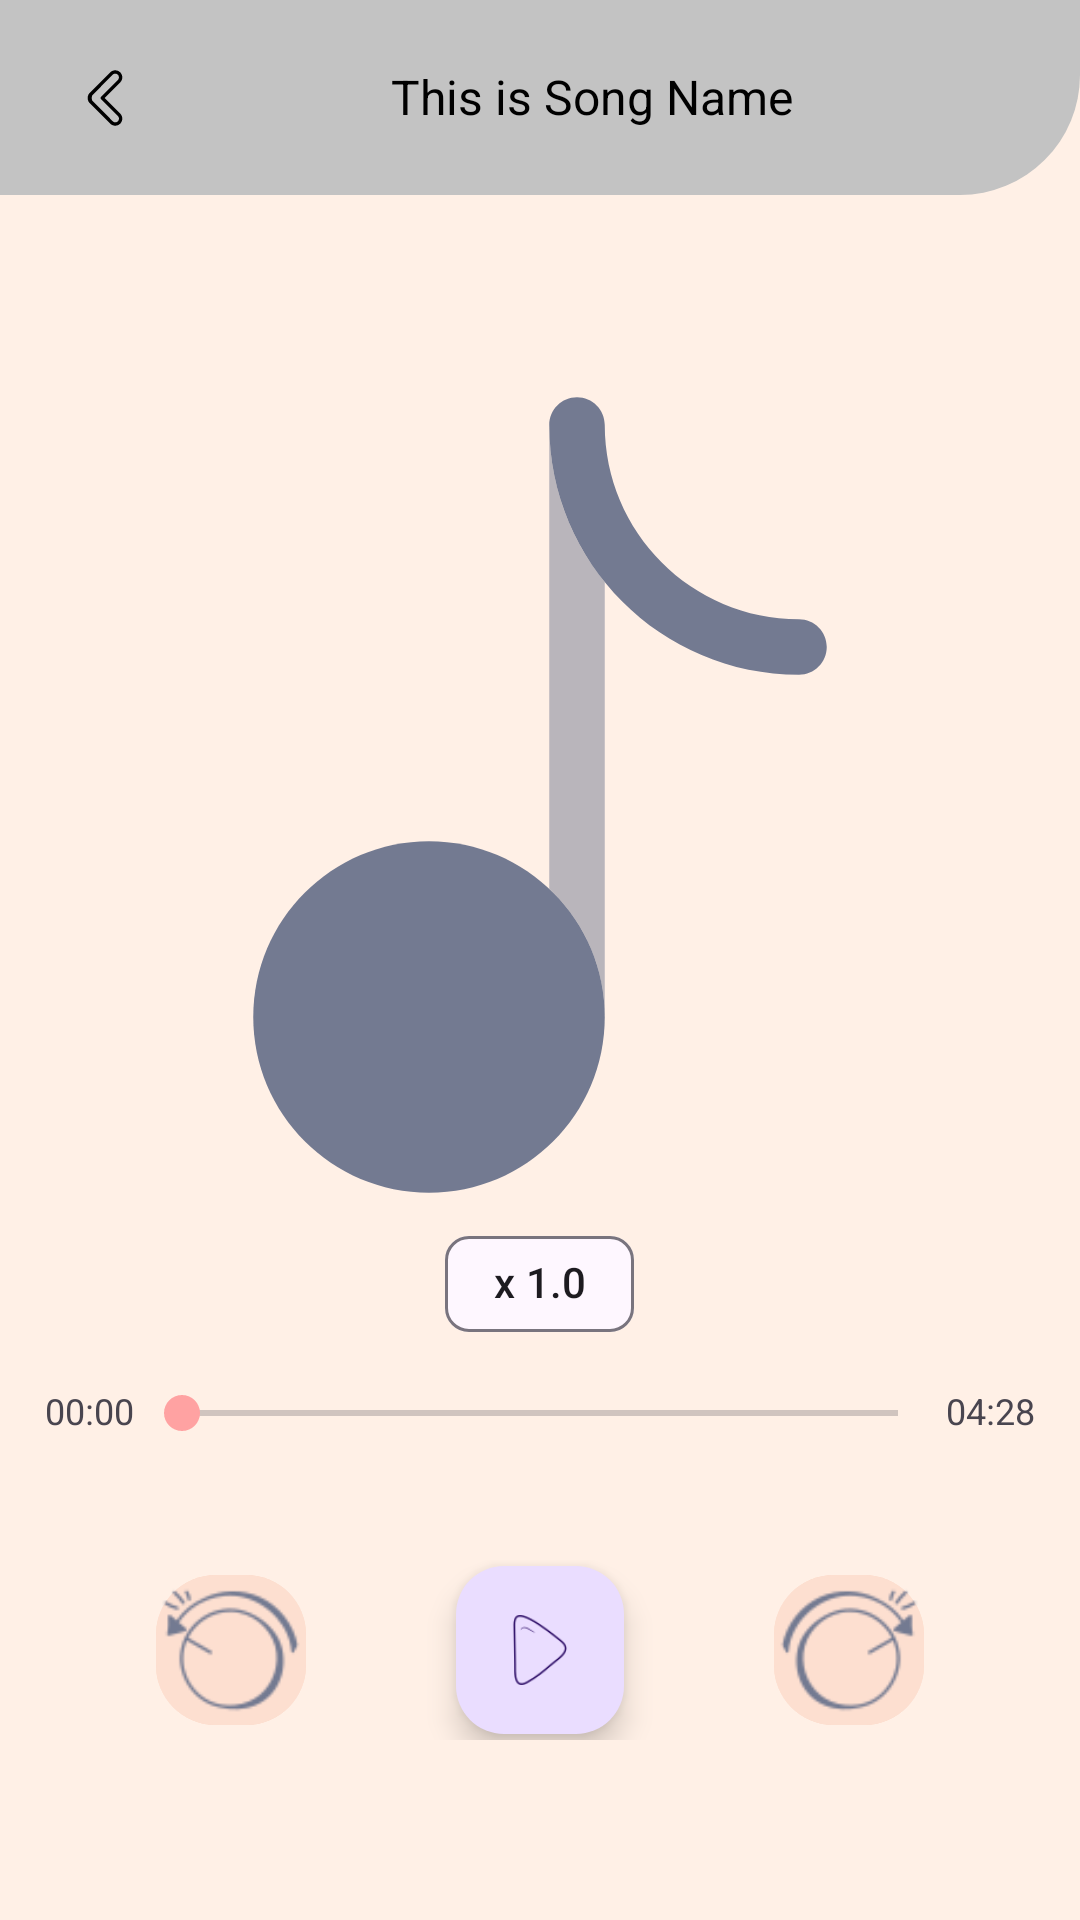

Locate icon controls on the screen. Image size 1080px×1920px, boxes as (x1, y1, x2, y2).
back: (87, 70, 123, 126)
play: (456, 1566, 624, 1734)
skip backward: (156, 1575, 306, 1725)
skip forward: (774, 1575, 924, 1725)
